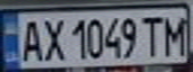0: (84, 16, 106, 60)
1: (66, 15, 87, 60)
4: (103, 15, 124, 60)
9: (118, 14, 142, 58)
A: (18, 16, 45, 63)
M: (160, 11, 193, 57)
T: (139, 12, 166, 59)
X: (39, 15, 66, 63)
